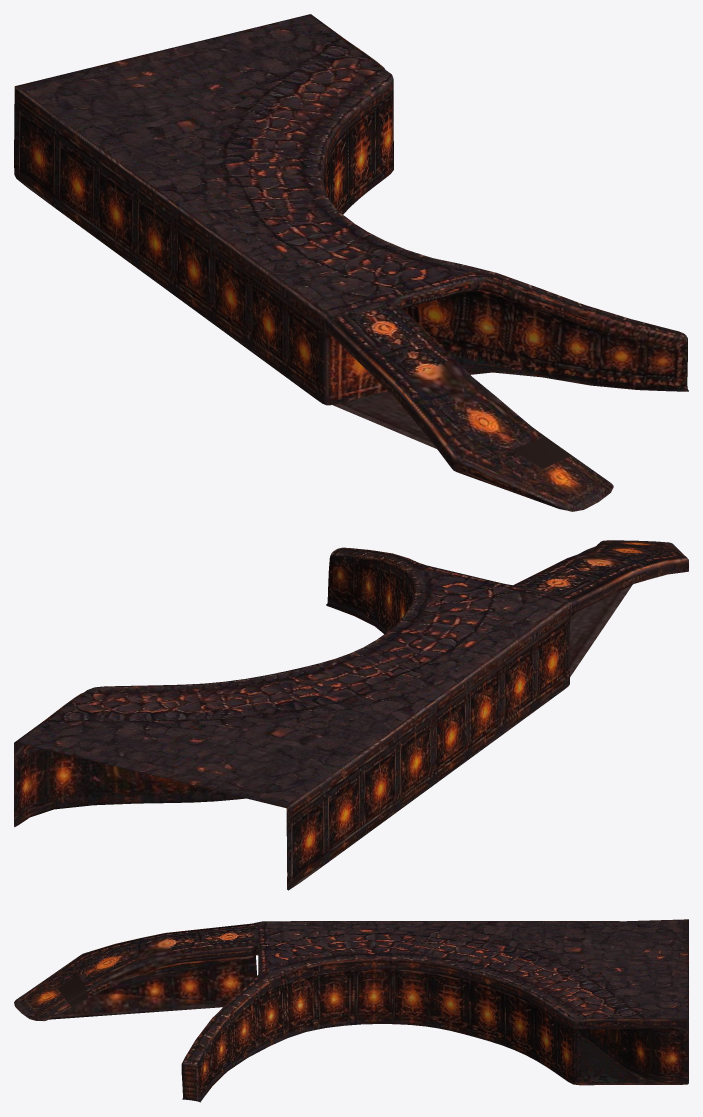
File: etage_lvl_3.glb
The picture shows the model from 3 angles, top to bottom: view 1: azimuth 30°, elevation 25°; view 2: azimuth 150°, elevation 25°; view 3: azimuth 270°, elevation 25°; orthographic projection. The views are drawn at different scales.
Visible parts, largest first — view 1: Mesh_0.001; view 2: Mesh_0.001; view 3: Mesh_0.001.
Part boxes in pixels (x1,y1,x2,y2): Mesh_0.001: (14, 14, 688, 511); Mesh_0.001: (14, 540, 688, 890); Mesh_0.001: (14, 919, 688, 1102).
Bounding box in the file's own units: 0.36 × 0.1255 × 0.9778.
Materials: 1 (1 with a texture image).
